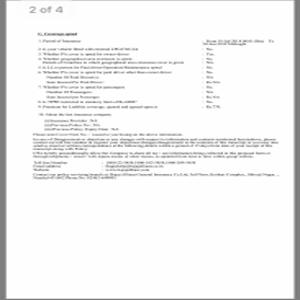text: (31, 29, 277, 132), (31, 133, 279, 181)
